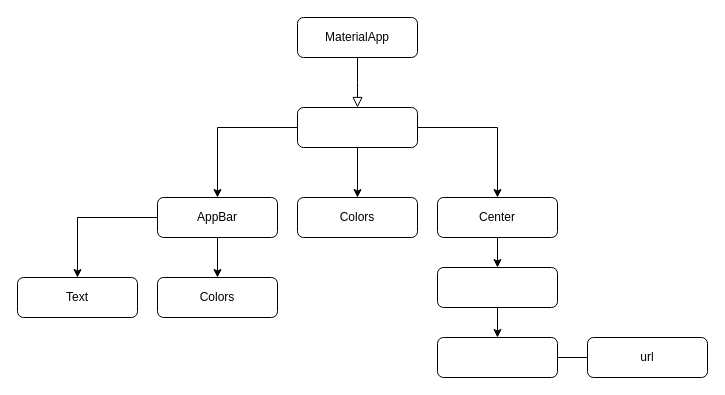
This 725x395 diagram has some shape labels left out. Each missing label, with the box of its shape:
Image: (436, 266, 558, 308)
NewworkImage: (436, 336, 558, 378)
Scaffold: (296, 106, 418, 148)
